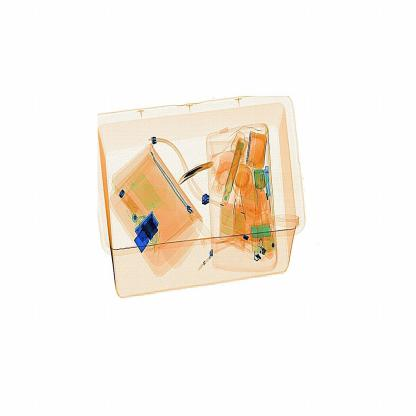wrench: (176, 154, 216, 190)
